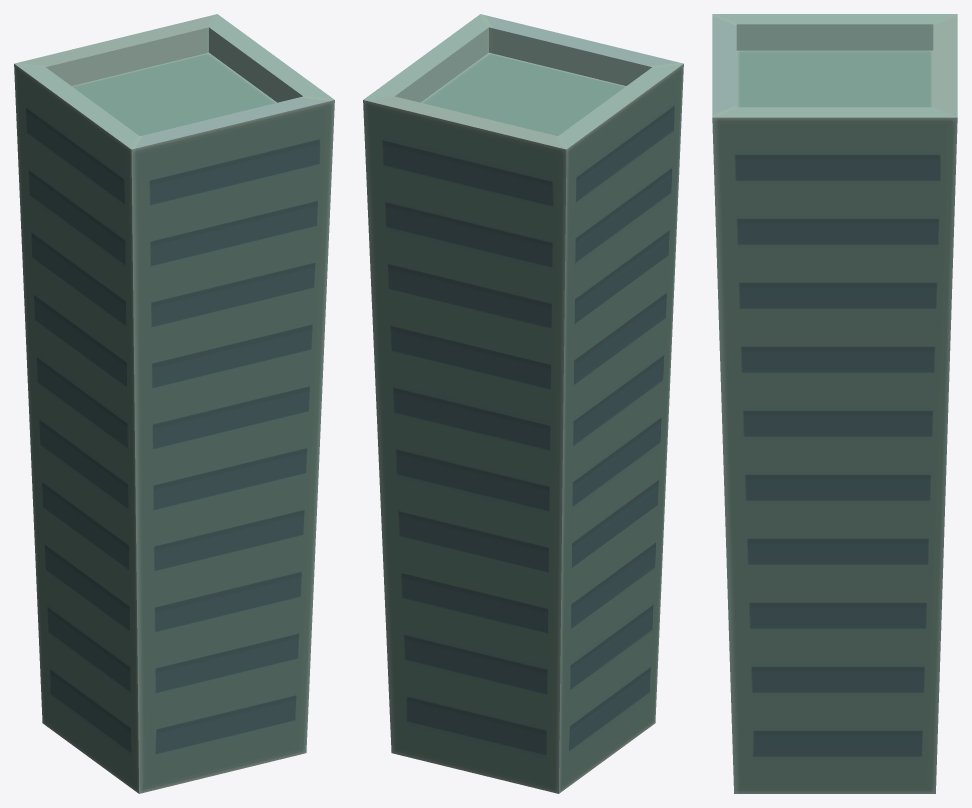
Rendered from MapScenery2.fbx.
The picture shows the model from 3 angles, left to right: view 1: azimuth 30°, elevation 25°; view 2: azimuth 150°, elevation 25°; view 3: azimuth 270°, elevation 25°; orthographic projection. The views are drawn at different scales.
Parts seen in each view (by area): view 1: Skyscraper_A; view 2: Skyscraper_A; view 3: Skyscraper_A.
Boxes of the visible parts, box(x1,y1,x2,y2) form: Skyscraper_A: box(14, 14, 334, 793); Skyscraper_A: box(363, 14, 683, 793); Skyscraper_A: box(712, 14, 957, 793).
Bounding box in the file's own units: 0.6524 × 2.01 × 0.6524.
1 material, 1 textured.
